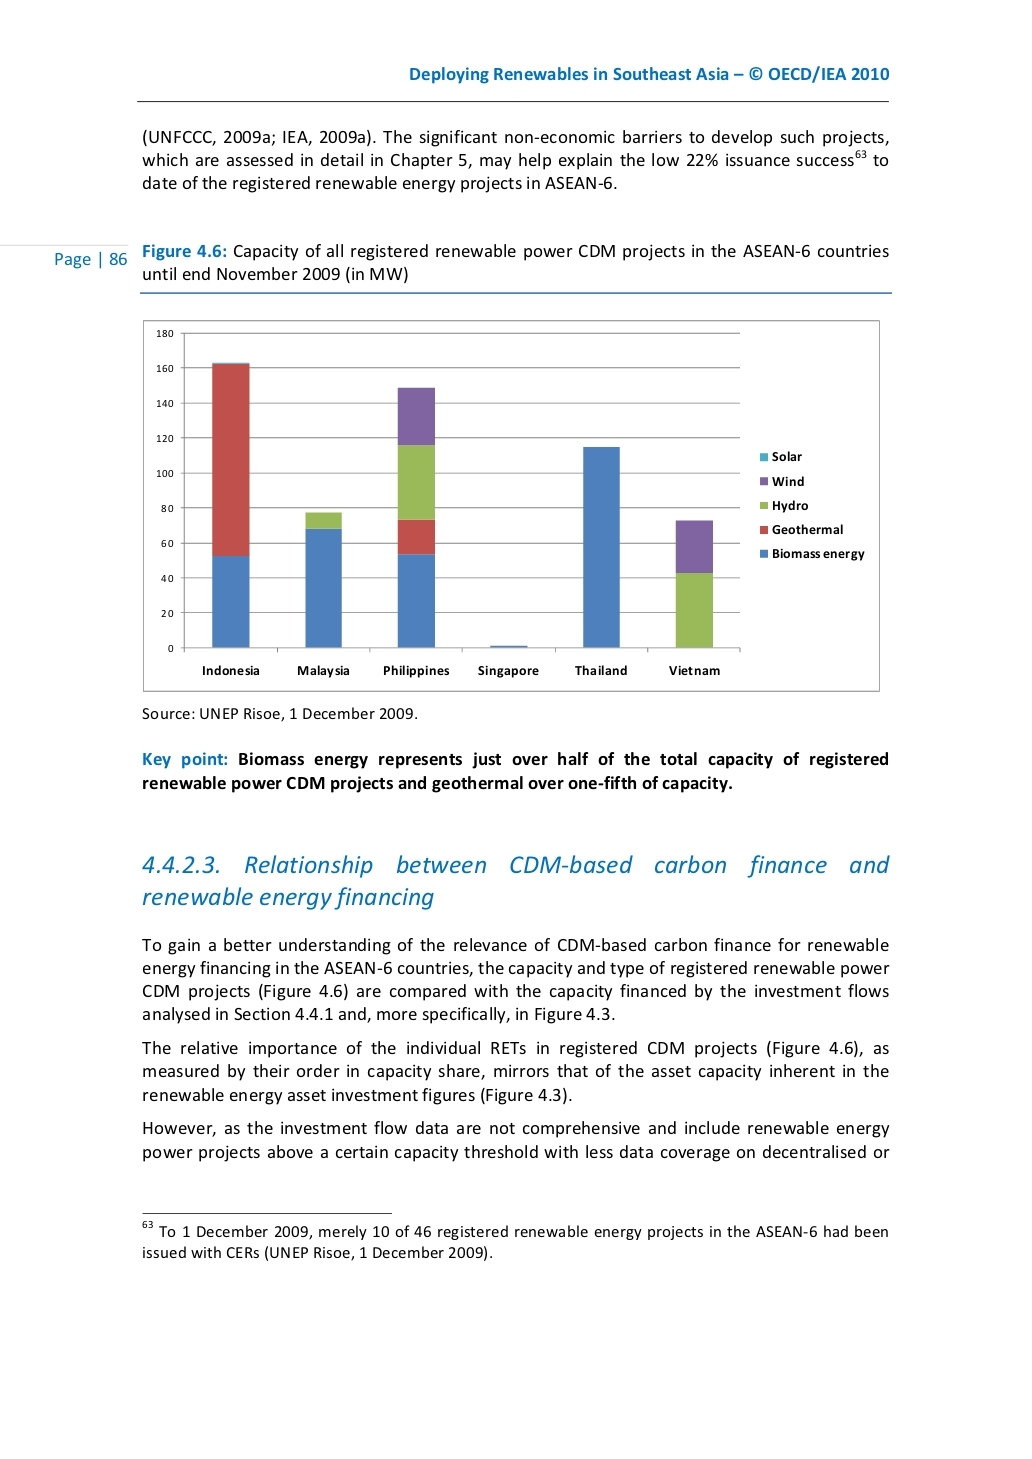figure: (143, 319, 879, 692)
